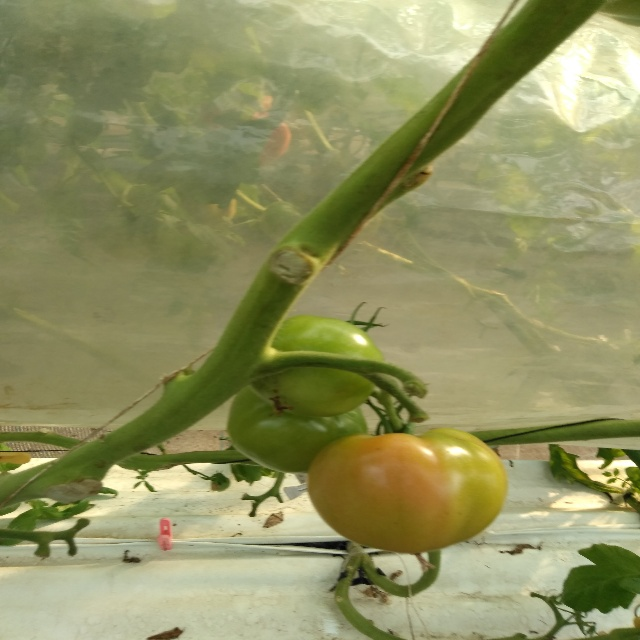b_green: (247, 316, 384, 417), (227, 384, 370, 474)
b_half_ripened: (307, 428, 508, 554)
